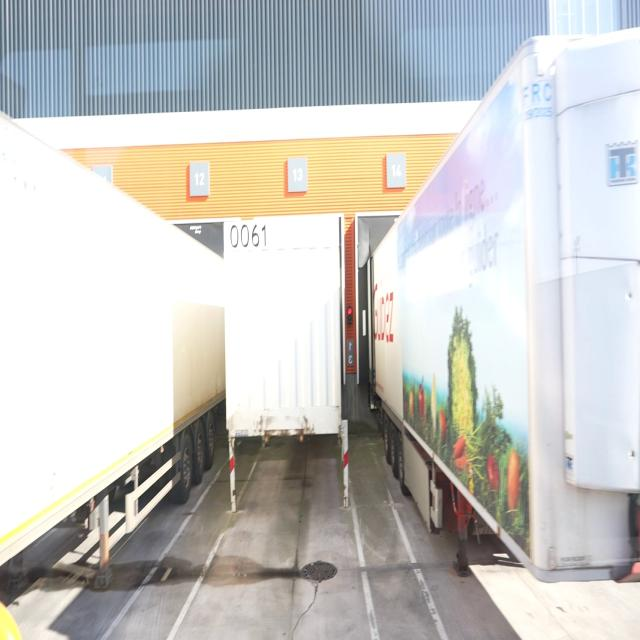Code: (228, 220, 268, 252)
